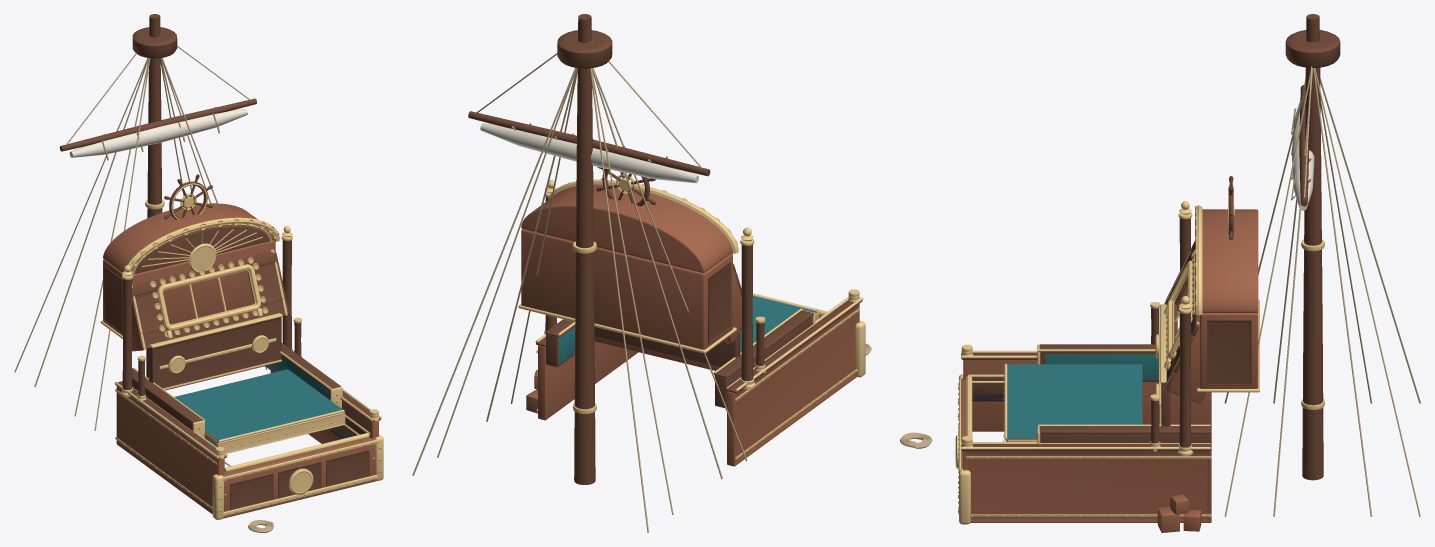
Rendered from machine.glb.
3 views of the same model, side by side, from view 1: azimuth 30°, elevation 25°; view 2: azimuth 150°, elevation 25°; view 3: azimuth 270°, elevation 25° (orthographic). The views are drawn at different scales.
Parts seen in each view (by area): view 1: cab_woodDark, cab_wood, hous_wood, cab_brass, push_velvet, hous_woodDark, dress_woodDark, dress_rope, face_woodDark, dress_canvas, face_brass, hous_brass (+7 smaller); view 2: hous_wood, dress_woodDark, cab_wood, dress_rope, cab_woodDark, hous_woodDark, dress_canvas, hous_brass, cab_brass, push_velvet, cab_brassDim, push_wood (+1 smaller); view 3: cab_wood, dress_woodDark, push_velvet, hous_wood, cab_woodDark, dress_rope, hous_woodDark, cab_brass, hous_brass, cab_brassDim, cab_velvet, dress_wood (+5 smaller).
Boxes of the visible parts, x1,y1,x2,y2 form: cab_woodDark: (115, 317, 380, 510); cab_wood: (116, 371, 378, 518); hous_wood: (103, 203, 275, 335); cab_brass: (114, 313, 383, 519); push_velvet: (174, 369, 342, 440); hous_woodDark: (104, 174, 291, 389); dress_woodDark: (59, 14, 256, 378); dress_rope: (14, 33, 273, 532); face_woodDark: (132, 251, 288, 349); dress_canvas: (69, 109, 247, 157); face_brass: (132, 249, 287, 350); hous_brass: (100, 183, 292, 396); hous_wood: (521, 185, 732, 349); dress_woodDark: (468, 14, 710, 484); cab_wood: (538, 303, 859, 466); dress_rope: (412, 38, 871, 532); cab_woodDark: (536, 300, 862, 407); hous_woodDark: (545, 167, 753, 380); dress_canvas: (480, 123, 698, 183); hous_brass: (518, 173, 755, 389); cab_brass: (535, 289, 865, 391); push_velvet: (740, 296, 815, 352); cab_brassDim: (536, 308, 859, 460); push_wood: (594, 311, 817, 370); cab_wood: (961, 360, 1211, 522); dress_woodDark: (1285, 14, 1340, 480); push_velvet: (1007, 364, 1142, 438); hous_wood: (1200, 209, 1258, 388); cab_woodDark: (961, 308, 1211, 451); dress_rope: (900, 43, 1420, 516); hous_woodDark: (1179, 176, 1251, 447); cab_brass: (955, 302, 1210, 524); hous_brass: (1177, 187, 1259, 455); cab_brassDim: (958, 352, 1211, 517); cab_velvet: (1045, 354, 1158, 380); dress_wood: (1157, 494, 1201, 532).
Bounding box in the file's own units: 14 × 26.01 × 26.74.
